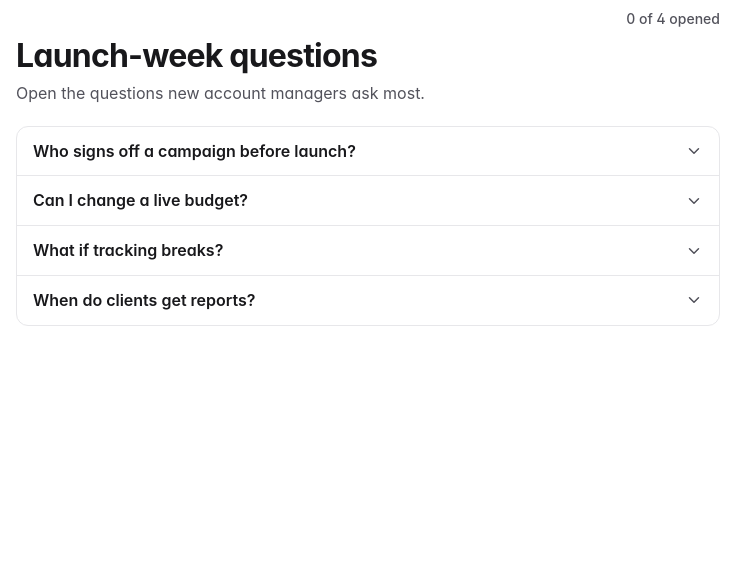
Accordion › renders lists inside panels and allows several open panels when configured
Click the button "Who signs off a campaign before launch?" at (194, 151), box left=17, top=127, right=719, bottom=176
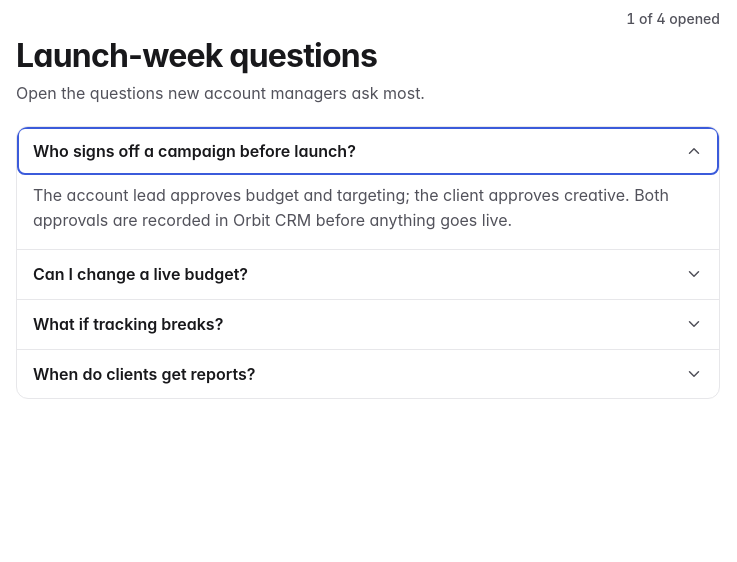
Click the button "Can I change a live budget?" at (140, 274), box left=17, top=250, right=719, bottom=299
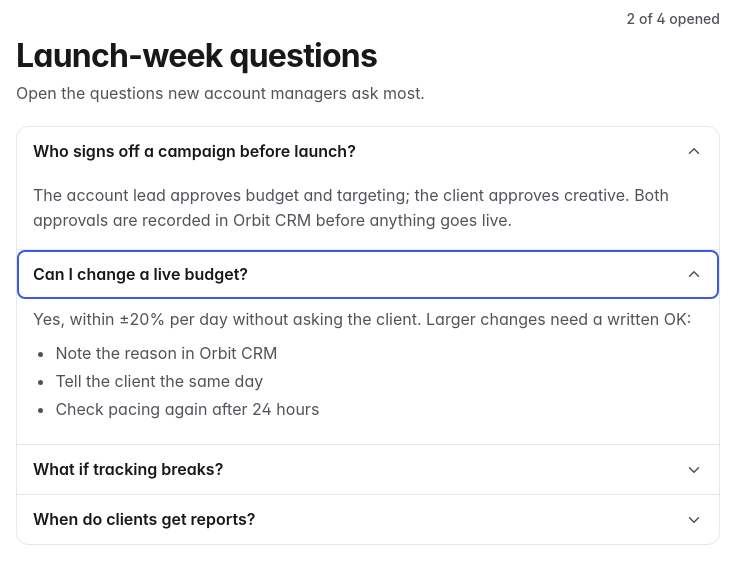
Check: the button "Who signs off a campaign before launch?" is expanded, box left=17, top=127, right=719, bottom=176
Check: the list is shown, box left=55, top=343, right=319, bottom=419
